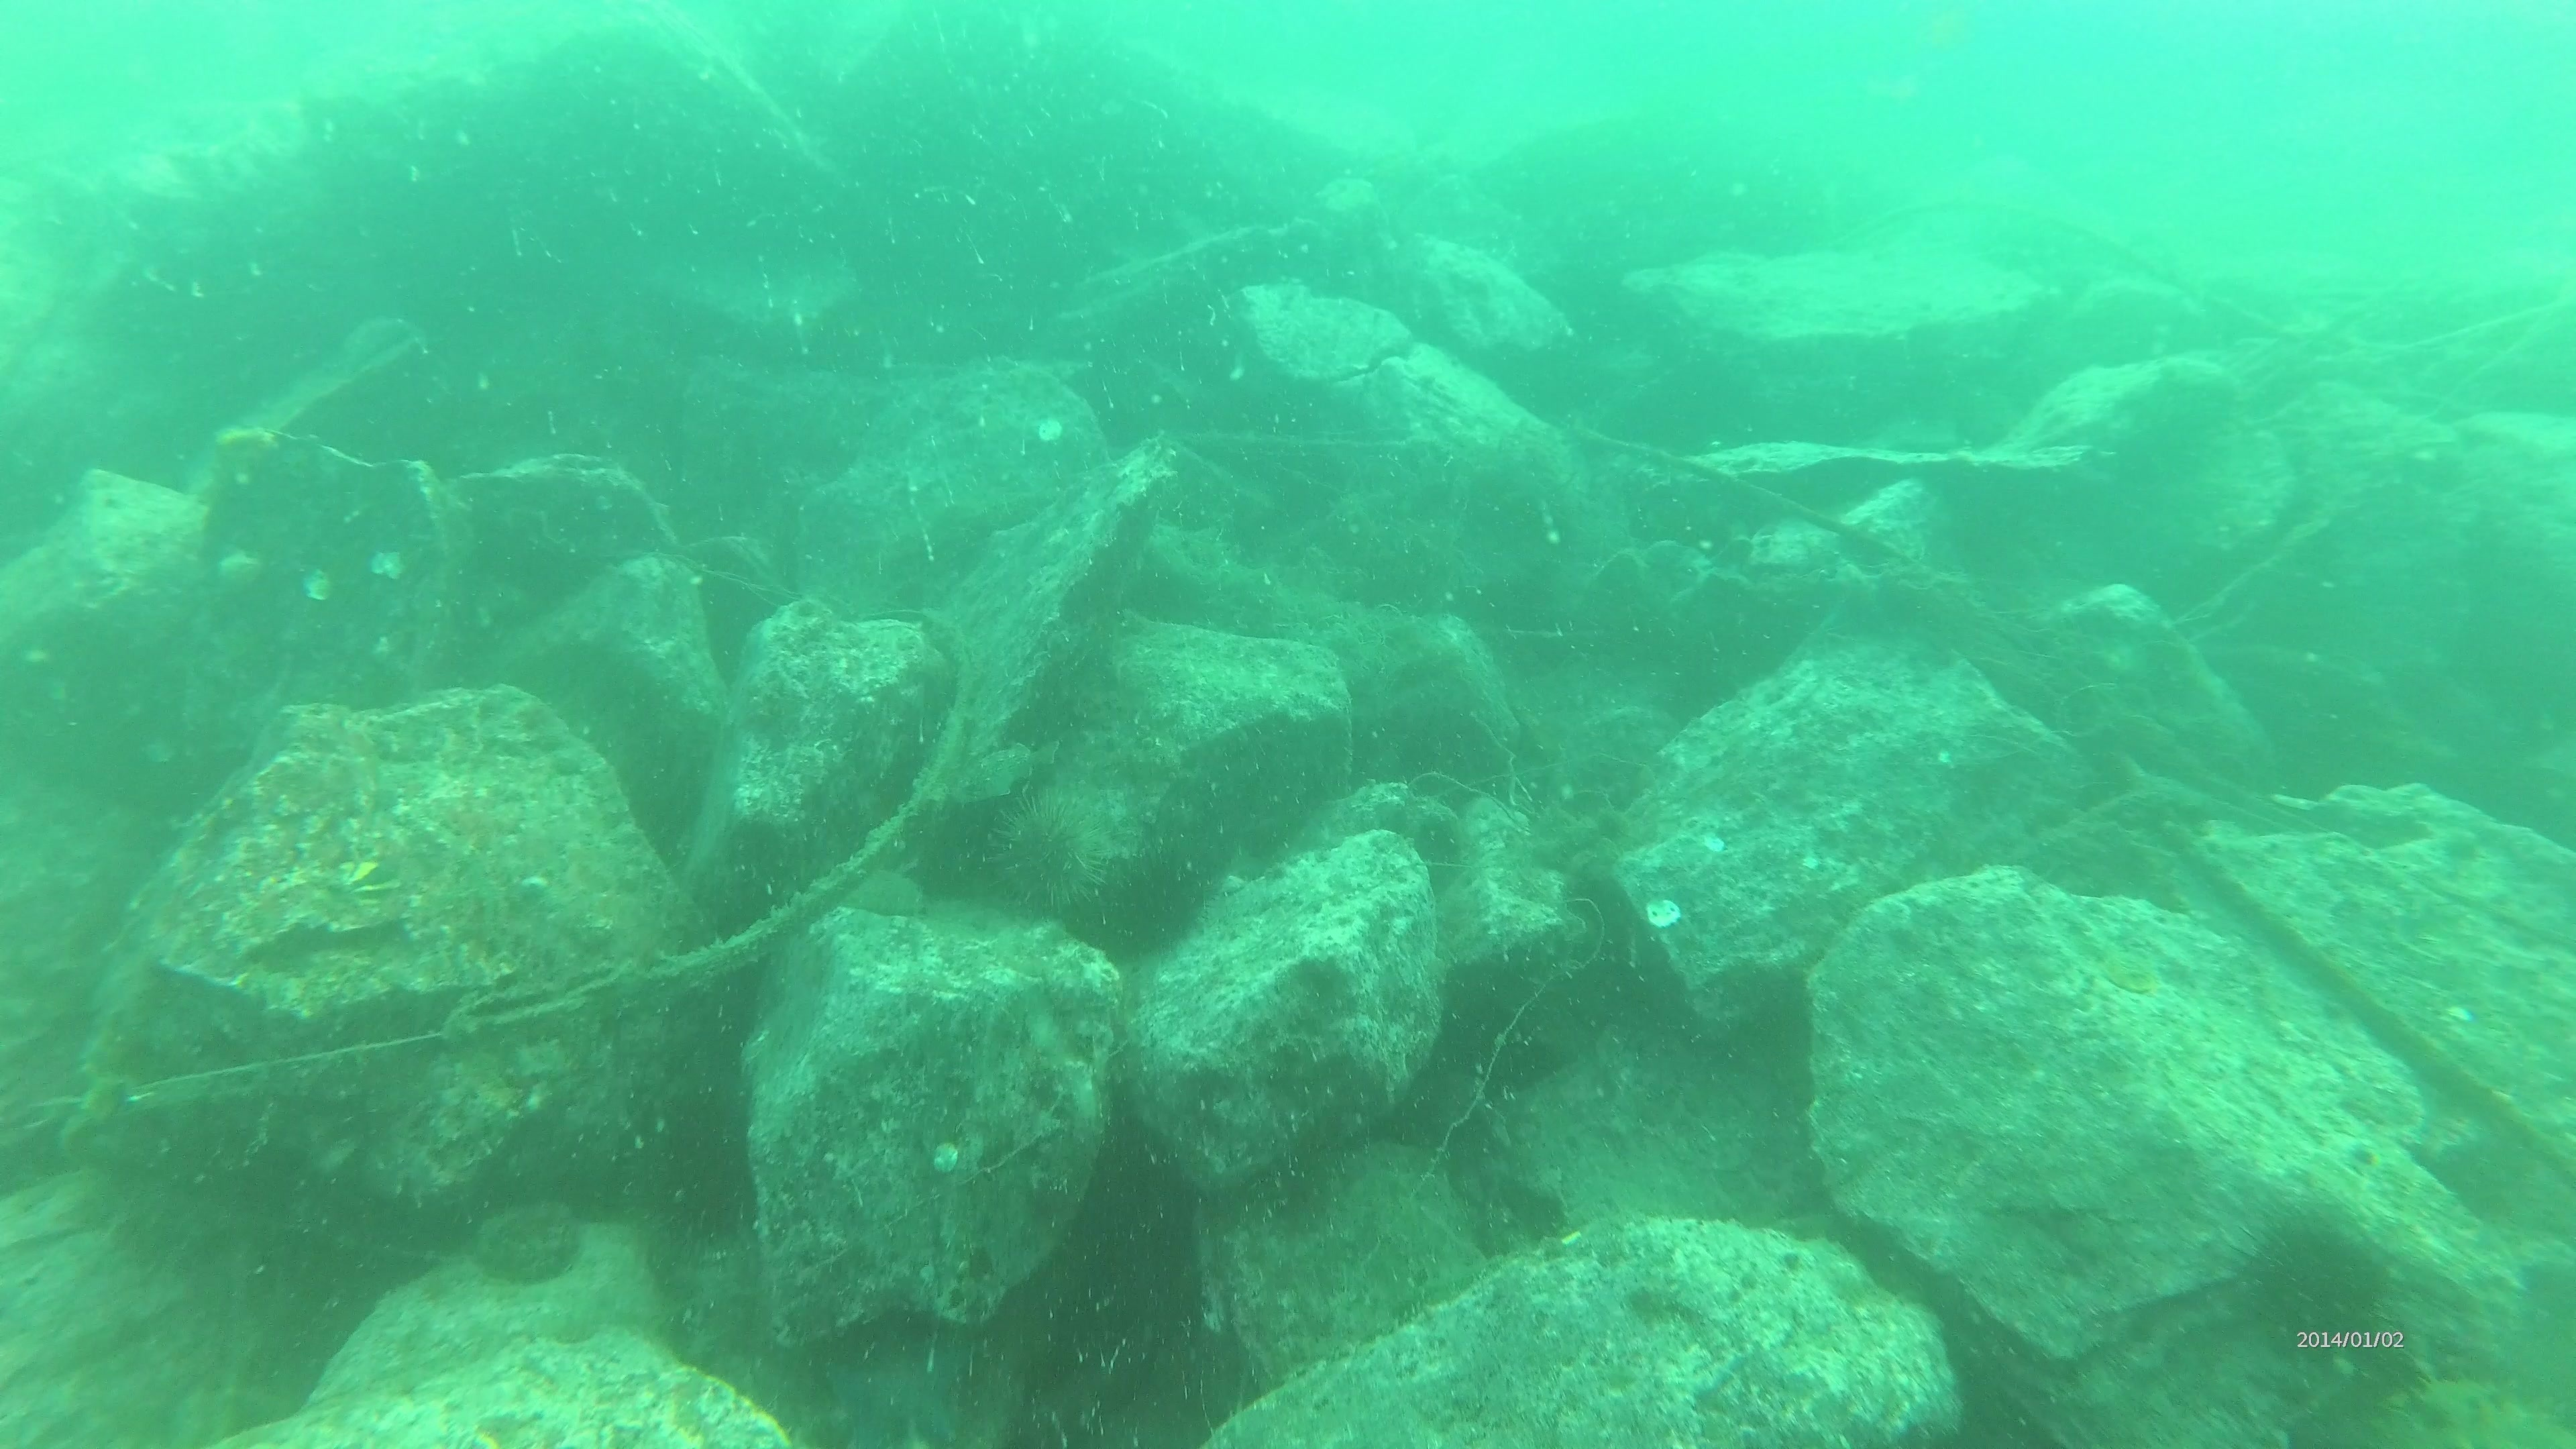echinus: (2231, 1207, 2403, 1357), (973, 784, 1120, 924), (639, 1097, 763, 1251), (1076, 840, 1215, 966)
